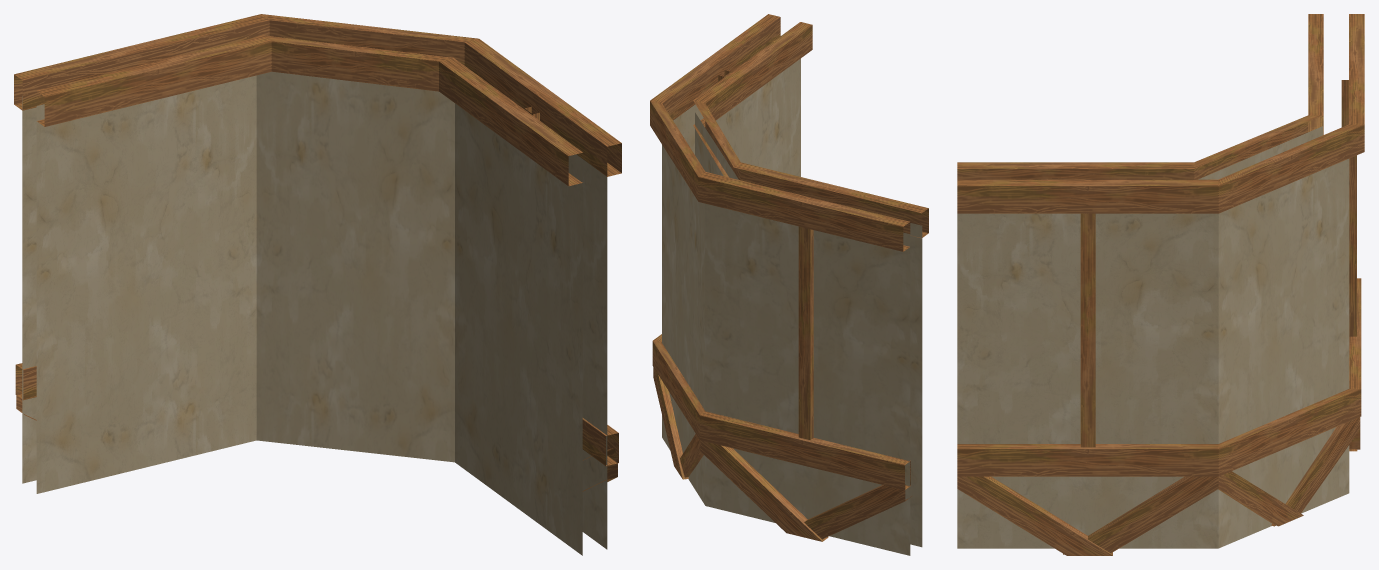
File: Overhang_Plaster_Corner_Front.gltf
The picture shows the model from 3 angles, left to right: view 1: azimuth 30°, elevation 25°; view 2: azimuth 150°, elevation 25°; view 3: azimuth 270°, elevation 25°; orthographic projection. The views are drawn at different scales.
Visible parts, largest first — view 1: Overhang_Plaster_Corner_Front; view 2: Overhang_Plaster_Corner_Front; view 3: Overhang_Plaster_Corner_Front.
Boxes of the visible parts, x1=… form: Overhang_Plaster_Corner_Front: x1=14, y1=14, x2=621, y2=555; Overhang_Plaster_Corner_Front: x1=650, y1=14, x2=928, y2=555; Overhang_Plaster_Corner_Front: x1=957, y1=14, x2=1364, y2=555.
Size of the model in its own units: 3.12 by 3.14 by 3.12.
Materials: 2 (2 with a texture image).
